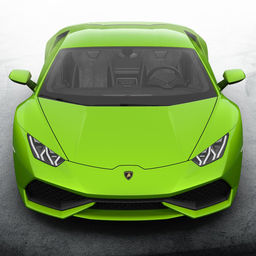car: (9, 21, 248, 225)
